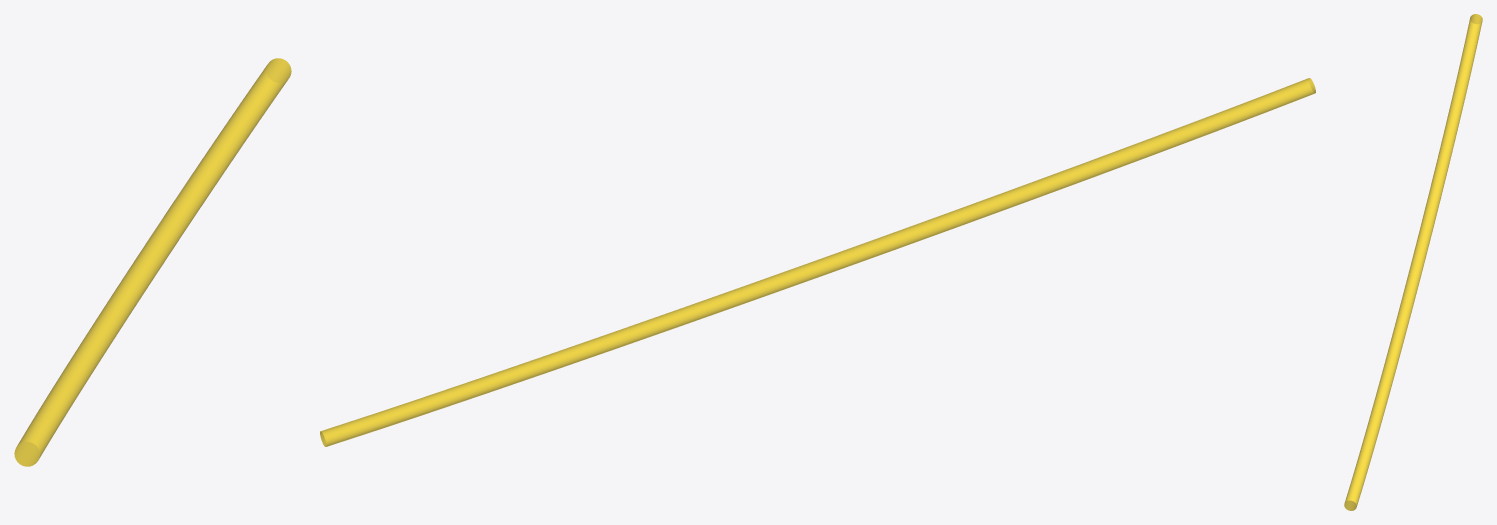
The model's file is Event_100608114_track_130.fbx.
3 views of the same model, side by side, from view 1: azimuth 90°, elevation 25°; view 2: azimuth 210°, elevation 25°; view 3: azimuth 270°, elevation 25° (orthographic). The views are drawn at different scales.
Parts seen in each view (by area): view 1: Model; view 2: Model; view 3: Model.
Boxes of the visible parts, x1,y1,x2,y2 form: Model: (14, 58, 291, 466); Model: (320, 78, 1315, 446); Model: (1344, 14, 1482, 510).
Bounding box in the file's own units: 2.51 × 0.5457 × 0.4315.
